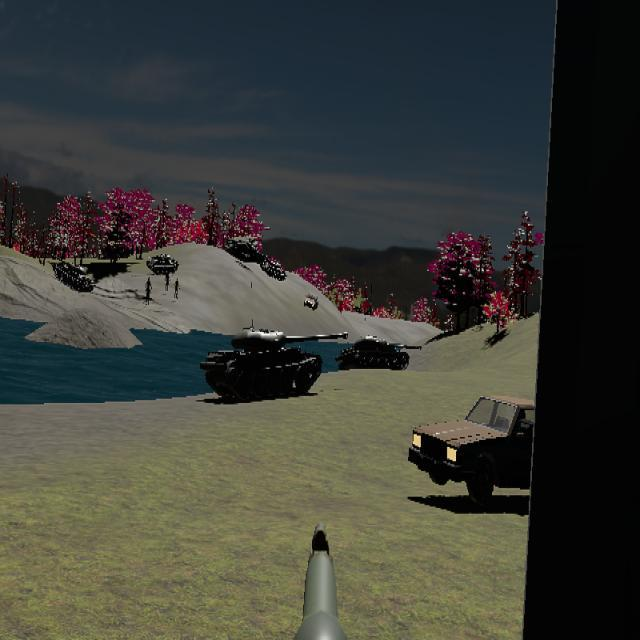Tank: (200, 323, 348, 402), (335, 334, 422, 373), (51, 259, 96, 293)
